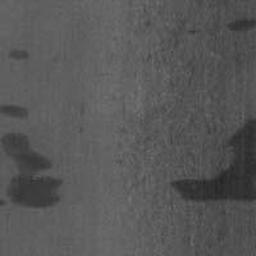Oil spot: (169, 116, 256, 206), (0, 128, 67, 211), (0, 102, 31, 122), (227, 14, 256, 35), (6, 47, 33, 61)
